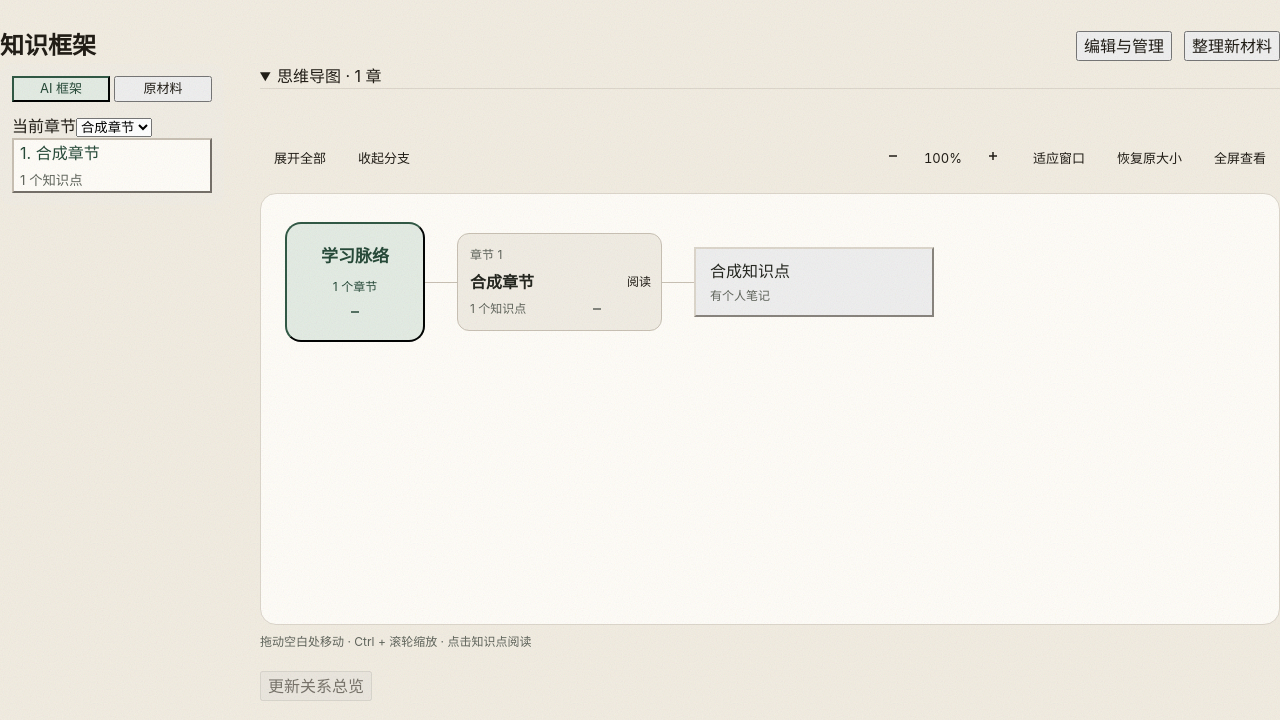
Test: framework reader and editor (explicit mock data) › reuses the submission ID when a response is unknown and shows unconfigured honestly
Click the button "整理新材料".
click(1232, 46)  # box [1184,31,1279,61]
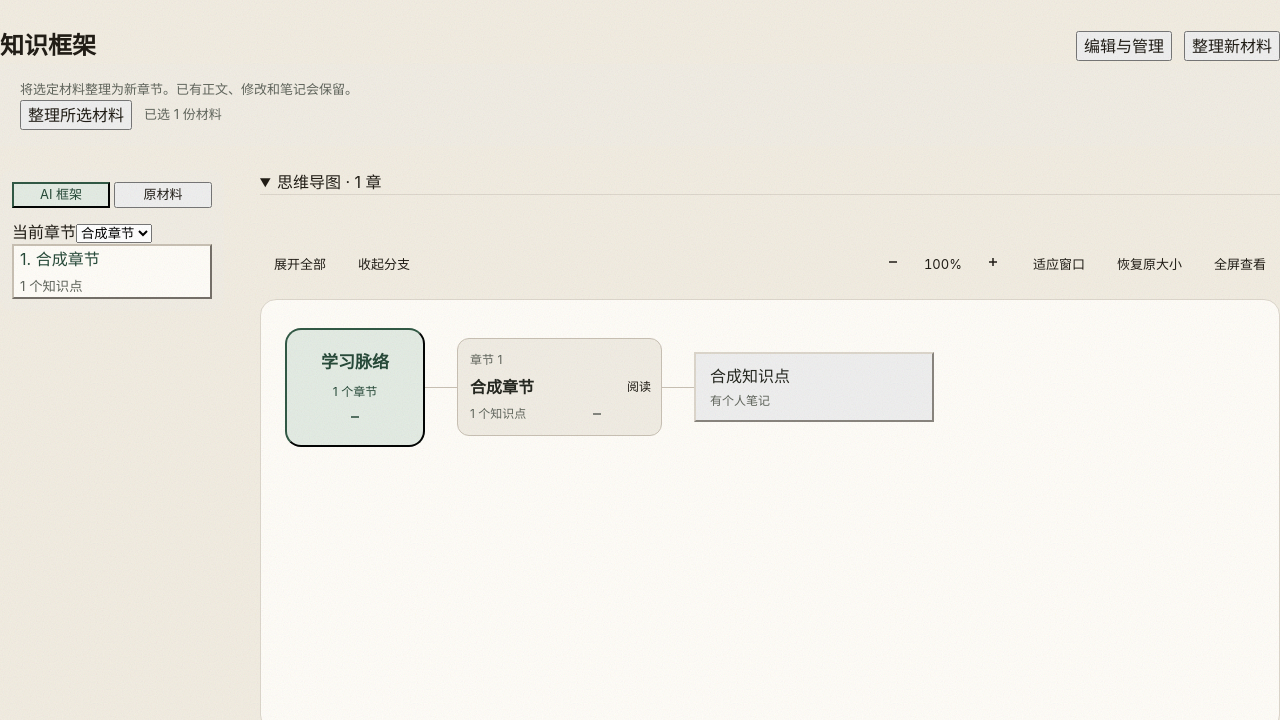
Click the button "整理所选材料".
click(76, 114)  # box [20,100,132,130]
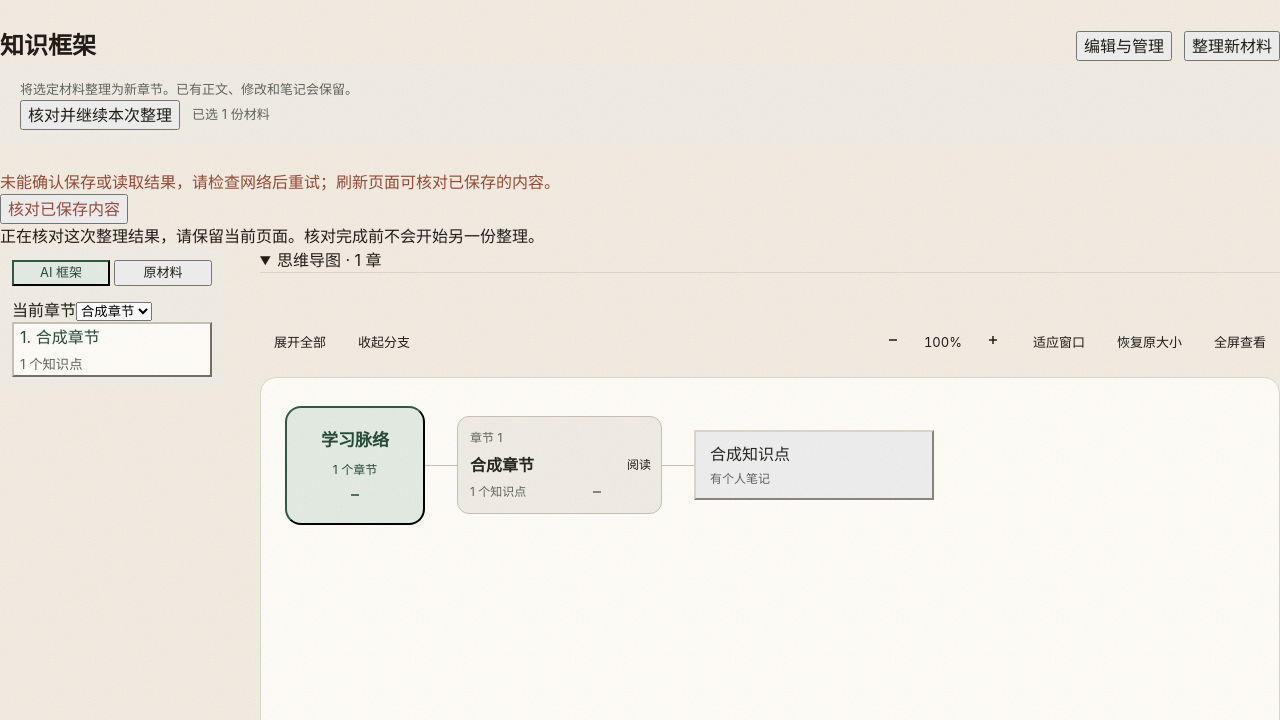
Click the button "核对并继续本次整理".
click(100, 114)  # box [20,100,180,130]
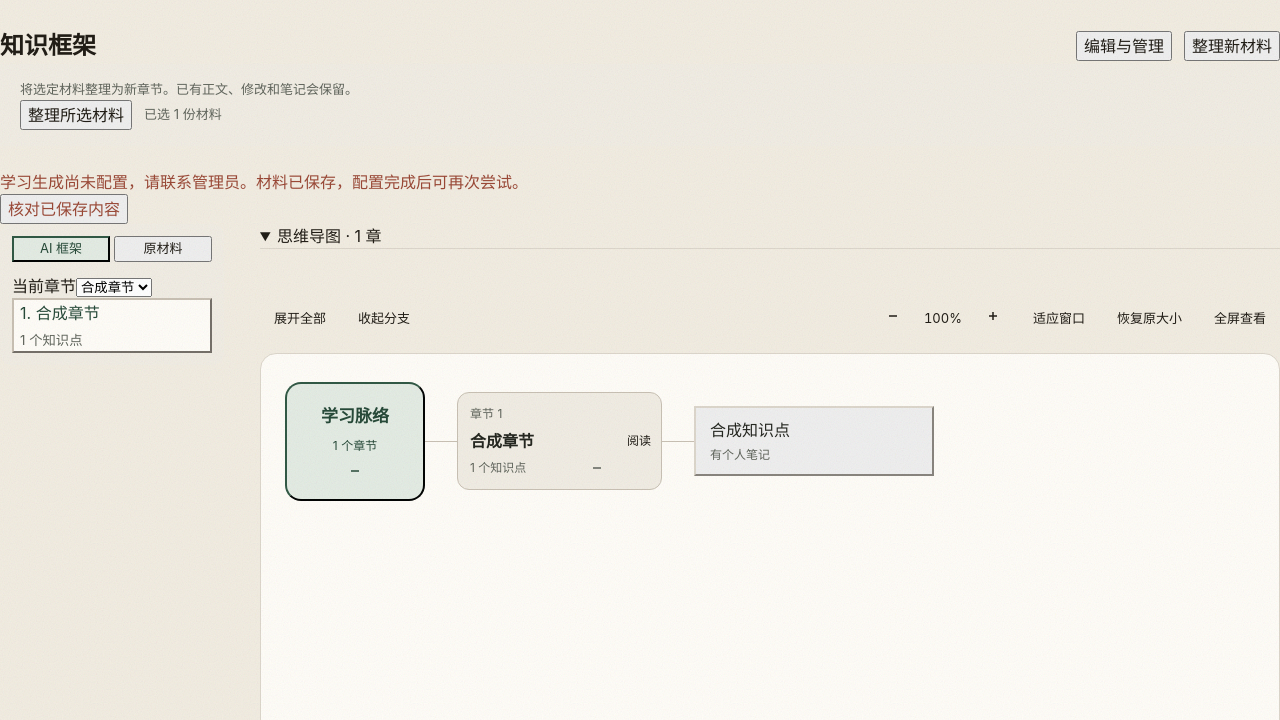
Check: the message shows "学习生成尚未配置", box [0,172,528,192]
